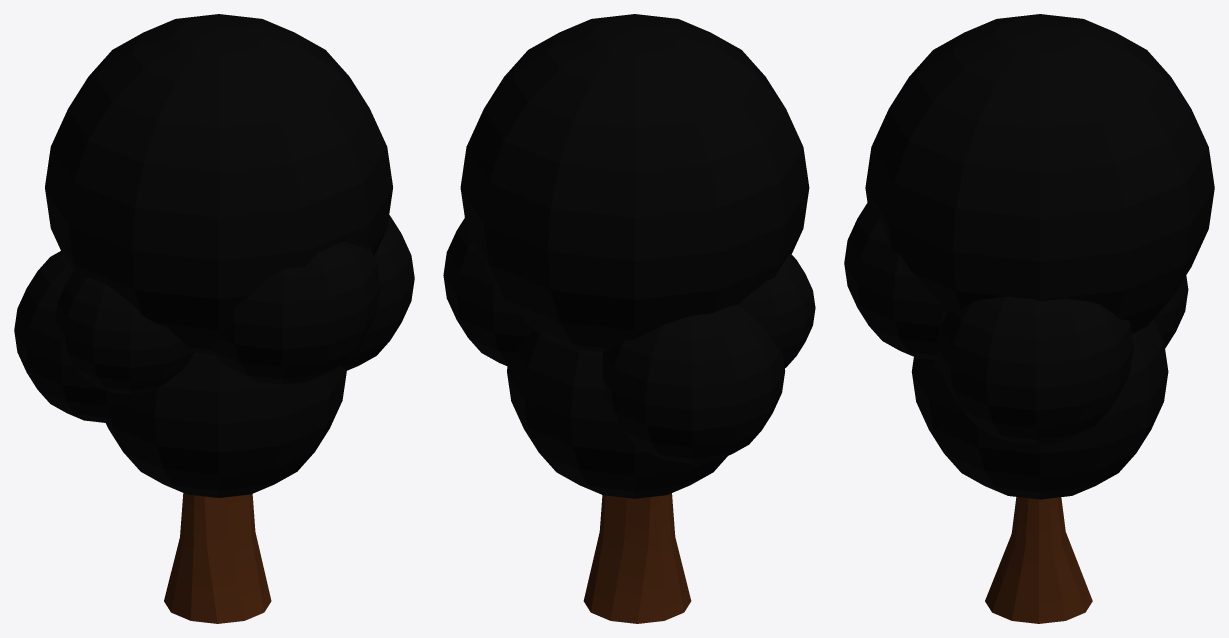
The model's file is arbol_bolitas.obj.
3 renders of one model, left to right at view 1: azimuth 30°, elevation 25°; view 2: azimuth 150°, elevation 25°; view 3: azimuth 270°, elevation 25°, orthographic.
Visible parts, largest first — view 1: pCylinder25; view 2: pCylinder25; view 3: pCylinder25.
Boxes of the visible parts, box(x1,y1,x2,y2) form: pCylinder25: box(14, 14, 414, 623); pCylinder25: box(443, 14, 815, 623); pCylinder25: box(844, 14, 1214, 623).
Size of the model in its own units: 7.41 by 11.7 by 6.86.
